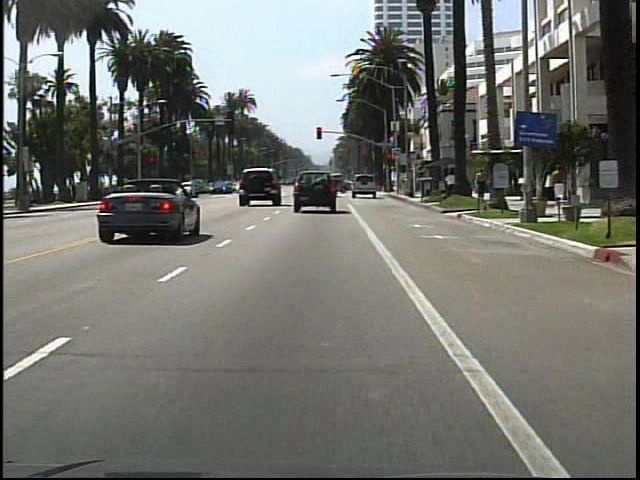person: (548, 160, 568, 211), (442, 169, 461, 200), (475, 165, 489, 207)
